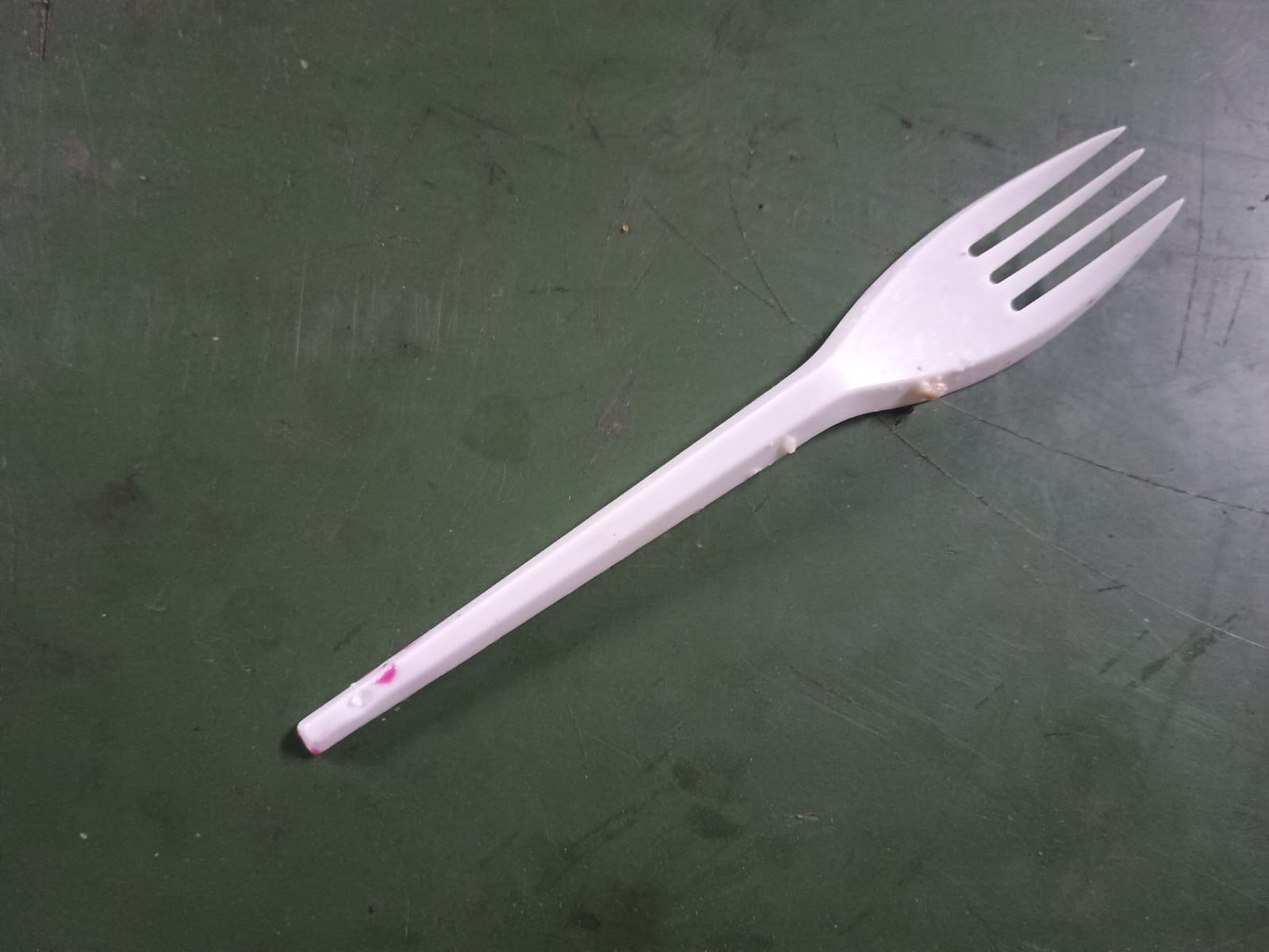Ordinario: (296, 125, 1191, 755)
